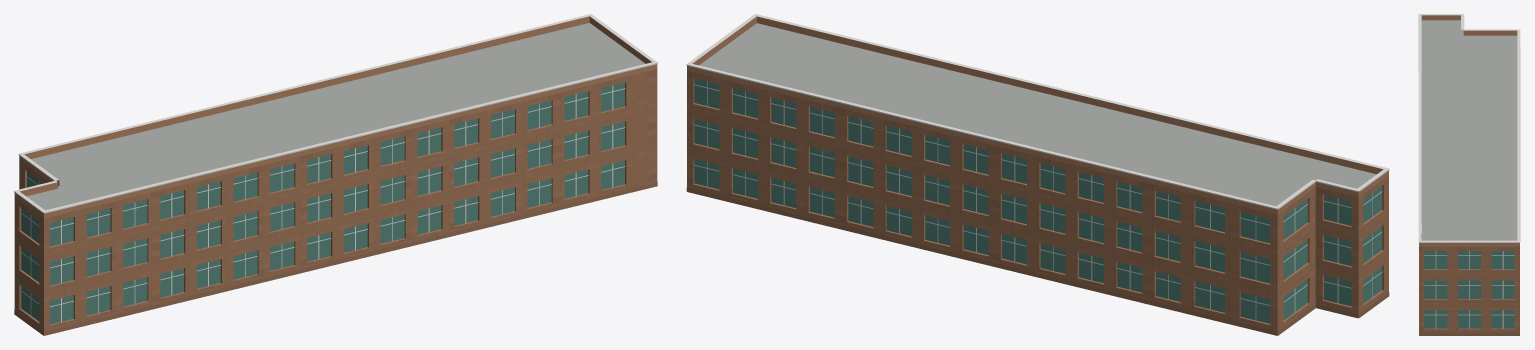
3 views of the same model, side by side, from view 1: azimuth 30°, elevation 25°; view 2: azimuth 150°, elevation 25°; view 3: azimuth 270°, elevation 25° (orthographic). The views are drawn at different scales.
Parts seen in each view (by area): view 1: lecture3__wall, lecture3__roof, lecture3__glass, lecture3__parapet, lecture3__trim, lecture3__frame, lecture3__base; view 2: lecture3__wall, lecture3__glass, lecture3__roof, lecture3__parapet, lecture3__trim, lecture3__frame, lecture3__base; view 3: lecture3__roof, lecture3__wall, lecture3__glass, lecture3__trim, lecture3__parapet, lecture3__frame, lecture3__base.
Boxes of the visible parts, box(x1,y1,x2,y2) form: lecture3__wall: box(14, 69, 657, 335); lecture3__roof: box(26, 23, 645, 210); lecture3__glass: box(21, 82, 624, 324); lecture3__parapet: box(14, 16, 657, 218); lecture3__trim: box(14, 14, 657, 213); lecture3__frame: box(21, 85, 625, 321); lecture3__base: box(14, 182, 657, 335); lecture3__wall: box(687, 71, 1388, 335); lecture3__glass: box(694, 78, 1381, 323); lecture3__roof: box(699, 23, 1376, 205); lecture3__parapet: box(687, 16, 1388, 214); lecture3__trim: box(686, 14, 1389, 209); lecture3__frame: box(694, 81, 1382, 320); lecture3__base: box(686, 187, 1389, 335); lecture3__roof: box(1421, 20, 1517, 240); lecture3__wall: box(1419, 247, 1519, 332); lecture3__glass: box(1424, 251, 1514, 328); lecture3__trim: box(1418, 14, 1520, 242); lecture3__parapet: box(1419, 15, 1519, 246); lecture3__frame: box(1424, 251, 1514, 328); lecture3__base: box(1419, 332, 1519, 335).
Bounding box in the file's own units: 59.43 × 11.4 × 11.23.
7 materials, 1 textured.
